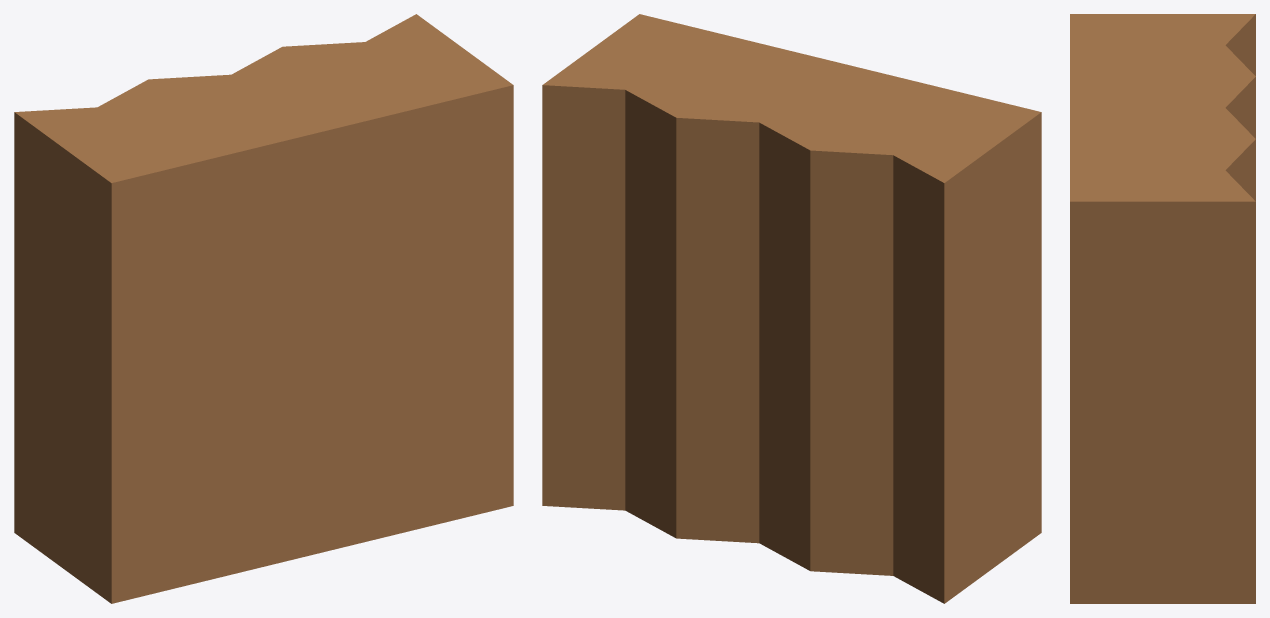
The model's file is cliff_large_rock.glb.
The picture shows the model from 3 angles, left to right: view 1: azimuth 30°, elevation 25°; view 2: azimuth 150°, elevation 25°; view 3: azimuth 270°, elevation 25°; orthographic projection. The views are drawn at different scales.
Visible parts, largest first — view 1: cliff_large_rock; view 2: cliff_large_rock; view 3: cliff_large_rock.
Boxes of the visible parts, x1,y1,x2,y2 form: cliff_large_rock: (14, 14, 513, 603); cliff_large_rock: (542, 14, 1041, 603); cliff_large_rock: (1070, 14, 1255, 603).
Size of the model in its own units: 1 by 1 by 0.4185.
